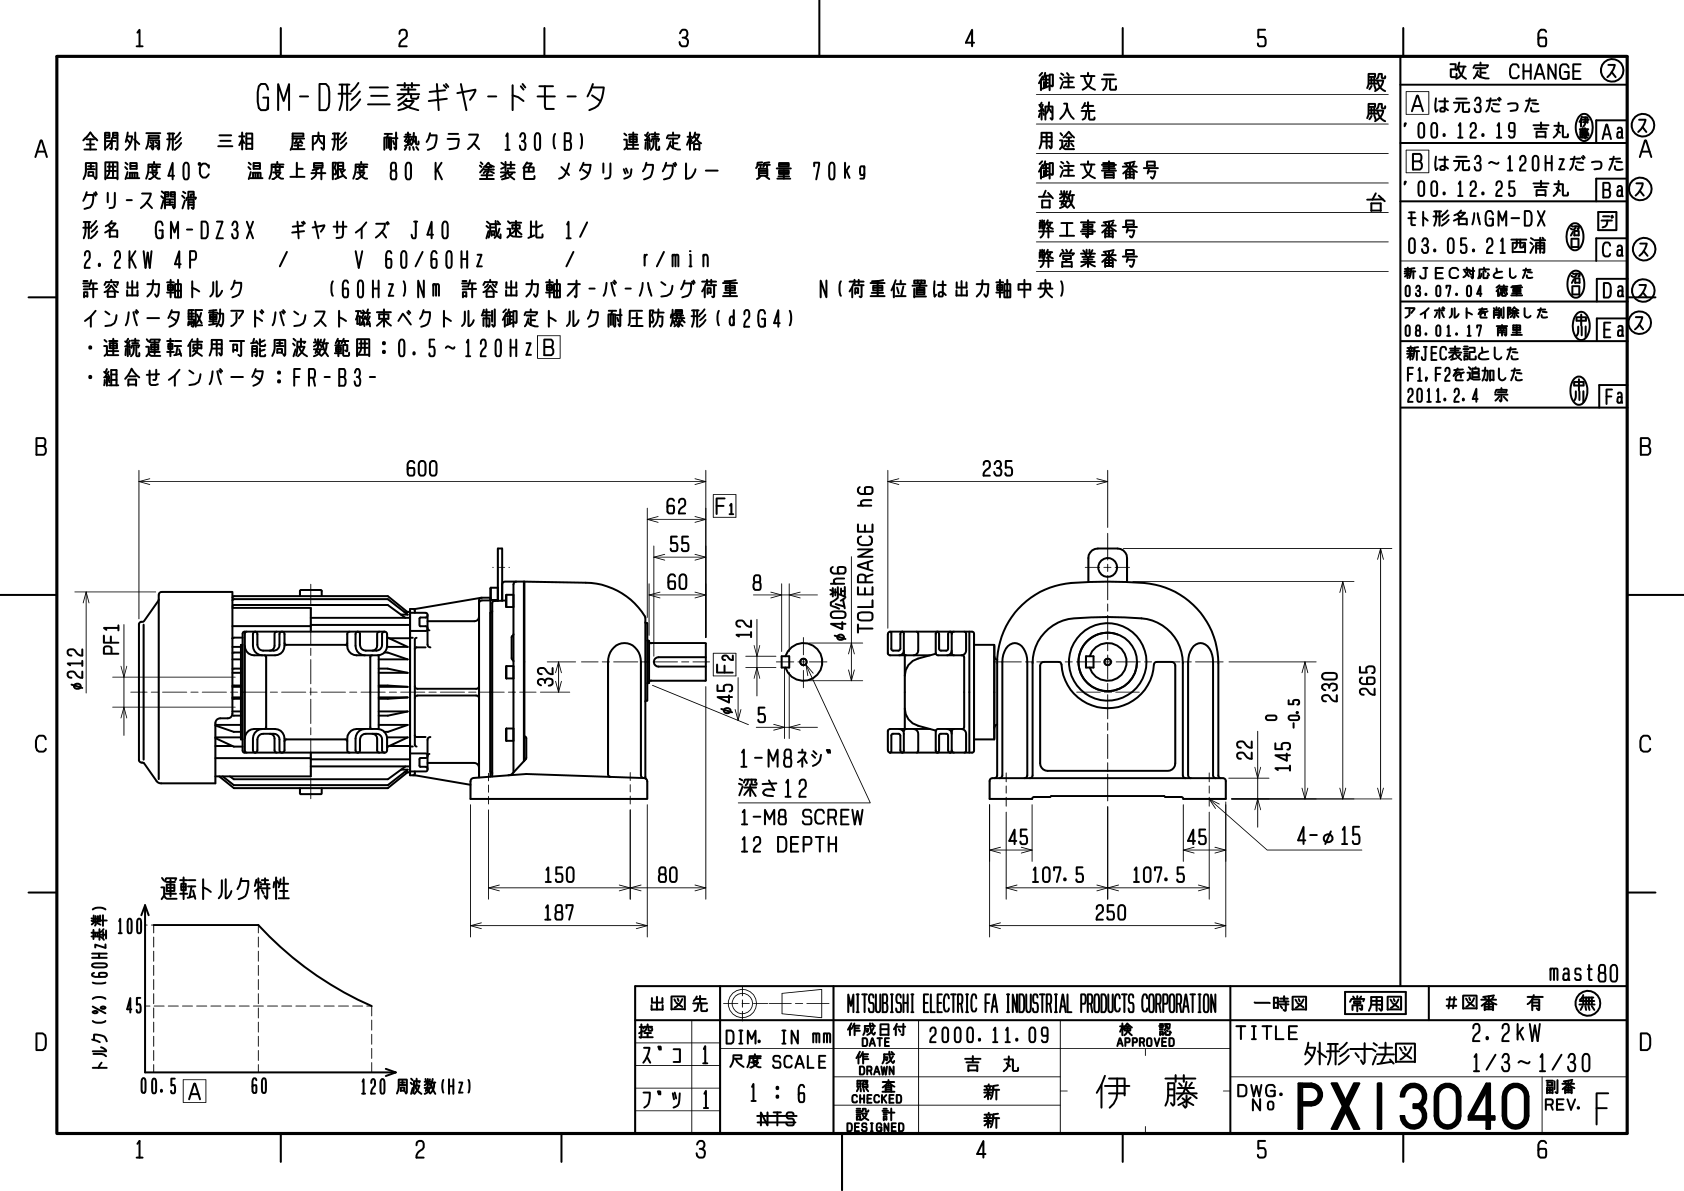GM_D_制御屋内_三相_脚: (61, 406, 1401, 983)
